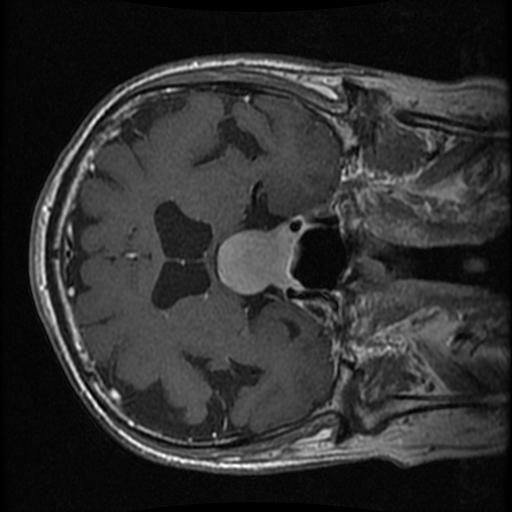pituitary tumour: (216, 223, 299, 295)
